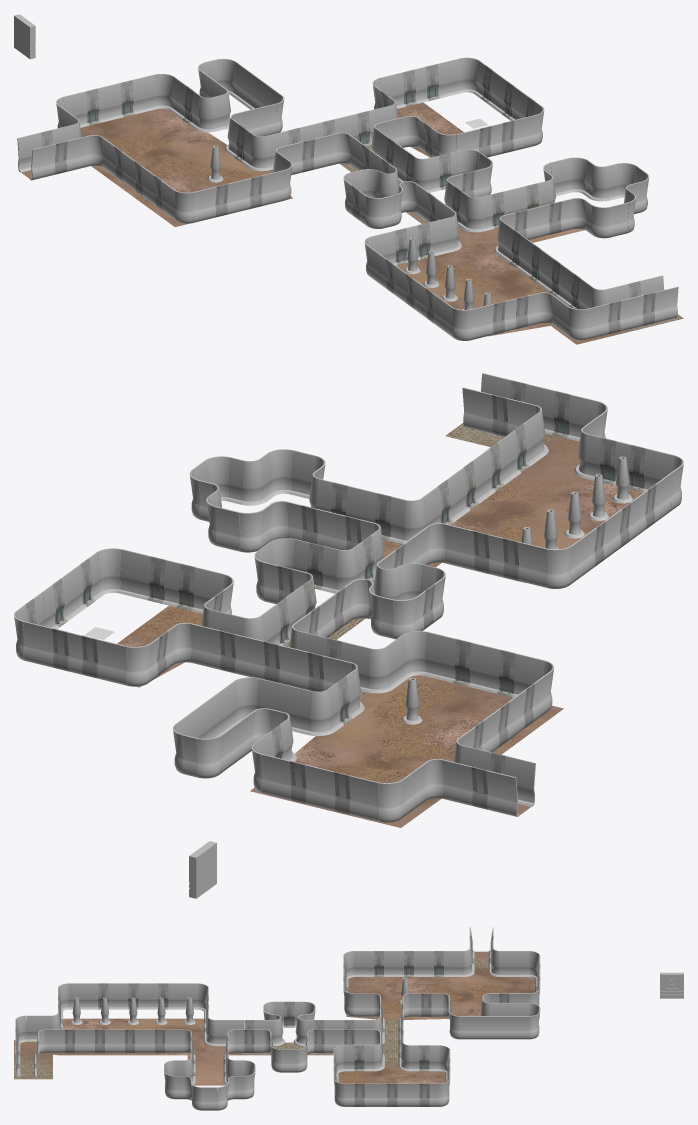
File: LVL7.fbx
3 renders of one model, top to bottom at view 1: azimuth 30°, elevation 25°; view 2: azimuth 150°, elevation 25°; view 3: azimuth 270°, elevation 25°, orthographic. The views are drawn at different scales.
Visible parts, largest first — view 1: Sol, Door, Tube_1_26, Tube_1_28, angle_interieur_18, angle_interieur_9, angle_interieur_2_3, angle_interieur_1, angle_interieur_15, angle_interieur_22, angle_interieur_25, angle_interieur_24 (+5 smaller); view 2: Sol, Door, Tube_1_28, Tube_1_26, angle_interieur_21, angle_interieur_10, angle_interieur_5, angle_interieur_17, angle_interieur, angle_interieur_6, angle_interieur_8, angle_interieur_23 (+5 smaller); view 3: Sol, Door, Tube_1_17, Tube_1_27, Tube_1_104, Tube_1_63, Tube_1_62, Tube_1_22_2, Tube_3_24, Tube_1_88, Tube_1_90, Tube_1_92 (+6 smaller).
Part boxes in pixels (x1=…): Sol: x1=21, y1=102, x2=683, y2=344; Door: x1=14, y1=14, x2=35, y2=59; Tube_1_26: x1=550, y1=158, x2=571, y2=196; Tube_1_28: x1=609, y1=202, x2=628, y2=237; angle_interieur_18: x1=569, y1=157, x2=587, y2=193; angle_interieur_9: x1=460, y1=57, x2=479, y2=93; angle_interieur_2_3: x1=155, y1=74, x2=173, y2=109; angle_interieur_1: x1=174, y1=190, x2=193, y2=223; angle_interieur_15: x1=365, y1=195, x2=384, y2=228; angle_interieur_22: x1=591, y1=205, x2=610, y2=238; angle_interieur_25: x1=568, y1=307, x2=587, y2=340; angle_interieur_24: x1=452, y1=307, x2=471, y2=340; Sol: x1=117, y1=423, x2=642, y2=827; Door: x1=189, y1=841, x2=216, y2=898; Tube_1_28: x1=289, y1=450, x2=316, y2=498; Tube_1_26: x1=215, y1=506, x2=240, y2=551; angle_interieur_21: x1=268, y1=449, x2=292, y2=495; angle_interieur_10: x1=97, y1=548, x2=121, y2=594; angle_interieur_5: x1=403, y1=631, x2=427, y2=676; angle_interieur_17: x1=239, y1=509, x2=263, y2=552; angle_interieur: x1=196, y1=735, x2=221, y2=778; angle_interieur_6: x1=378, y1=780, x2=403, y2=822; angle_interieur_8: x1=126, y1=644, x2=150, y2=686; angle_interieur_23: x1=546, y1=546, x2=571, y2=588; Sol: x1=14, y1=951, x2=535, y2=1085; Door: x1=660, y1=972, x2=683, y2=998; Tube_1_17: x1=281, y1=1049, x2=297, y2=1072; Tube_1_27: x1=201, y1=1087, x2=217, y2=1110; Tube_1_104: x1=26, y1=1015, x2=38, y2=1041; Tube_1_63: x1=374, y1=1083, x2=387, y2=1106; Tube_1_62: x1=397, y1=1083, x2=409, y2=1106; Tube_1_22_2: x1=409, y1=993, x2=421, y2=1016; Tube_3_24: x1=284, y1=1001, x2=294, y2=1027; Tube_1_88: x1=138, y1=983, x2=148, y2=1009; Tube_1_90: x1=168, y1=983, x2=178, y2=1009; Tube_1_92: x1=108, y1=983, x2=118, y2=1009.
Bounding box in the file's own units: 11405 × 801 × 20146.
